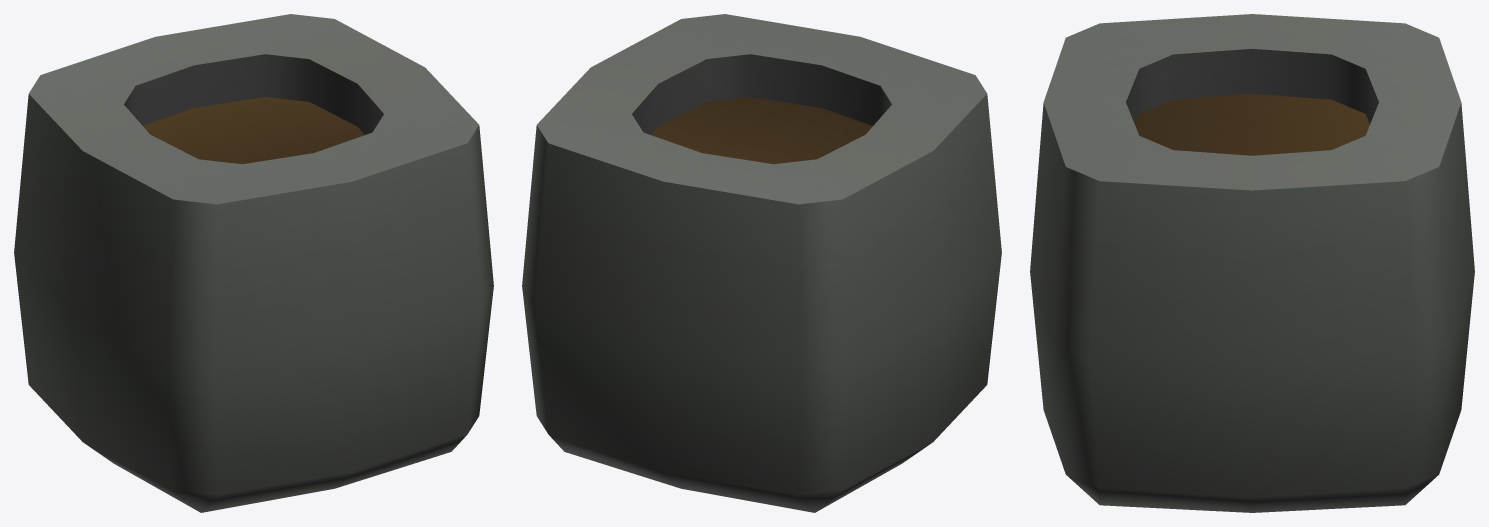
Rendered from flower_pot_big_grey.fbx.
3 views of the same model, side by side, from view 1: azimuth 30°, elevation 25°; view 2: azimuth 150°, elevation 25°; view 3: azimuth 270°, elevation 25° (orthographic). The views are drawn at different scales.
Visible parts, largest first — view 1: flower_pot_big_grey; view 2: flower_pot_big_grey; view 3: flower_pot_big_grey.
Part boxes in pixels (x1,y1,x2,y2): flower_pot_big_grey: (14,14,493,512); flower_pot_big_grey: (522,14,1001,512); flower_pot_big_grey: (1030,14,1474,512).
Size of the model in its own units: 59.57 by 50 by 59.57.
